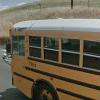Bus: (10, 16, 97, 100)
